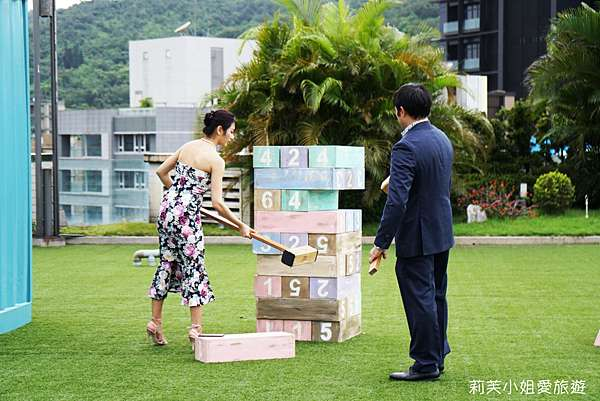people: (146, 111, 253, 345), (377, 83, 456, 378)
